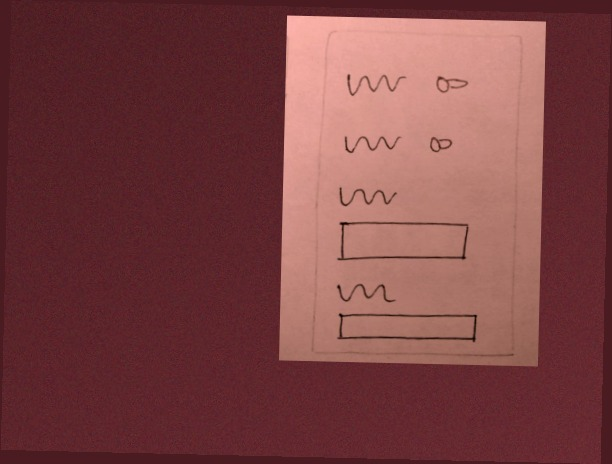switch: (429, 71, 476, 99), (423, 130, 459, 161)
text: (331, 275, 400, 310), (340, 69, 412, 101), (334, 180, 404, 212), (338, 129, 406, 161)
text_input: (331, 218, 476, 268), (334, 309, 483, 347)
